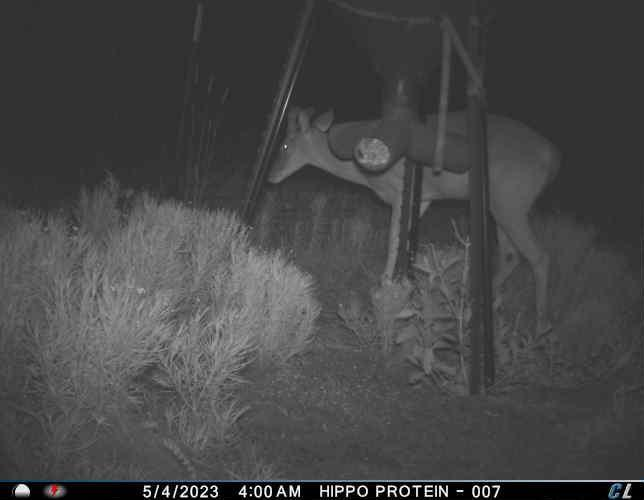Deer: (264, 100, 566, 340)
